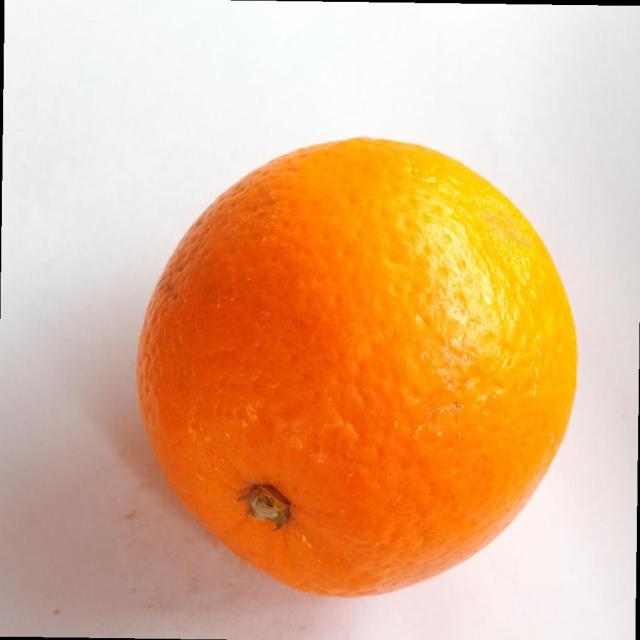fresh orange: (135, 134, 579, 599)
